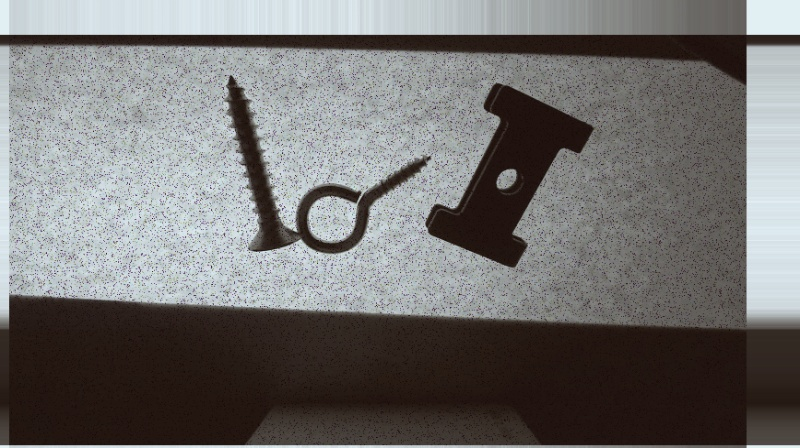O001: (294, 154, 431, 255)
O002: (423, 79, 596, 269)
S001: (221, 73, 302, 258)
